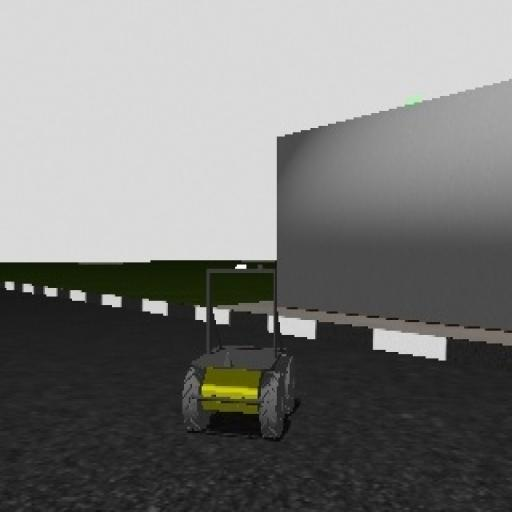huskya200: (180, 260, 300, 458)
